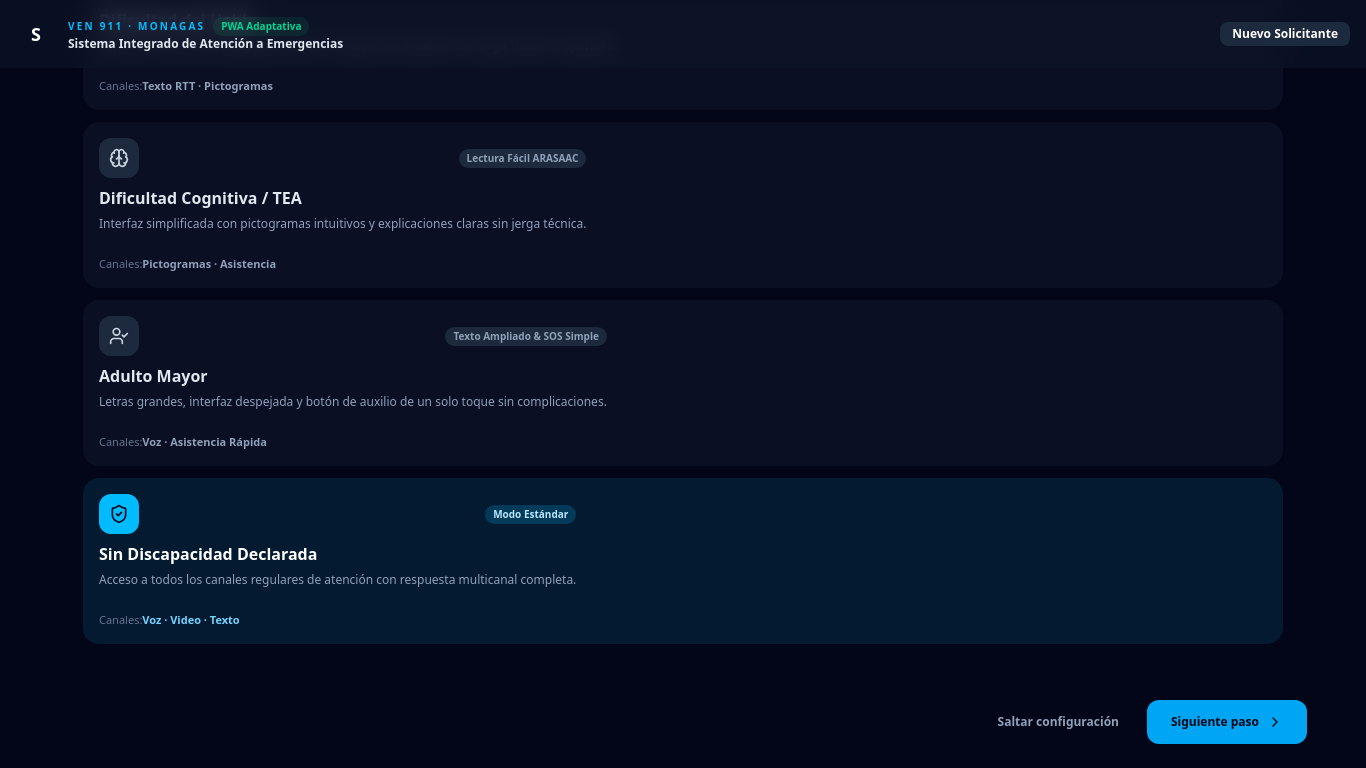
Test: Home page › shows the three onboarding screens on first launch
(page scrolled)
What coordinates should you click on to do the following:
click the button "Siguiente paso"
I would click on:
 (1227, 722)
Its box is 1147,700 -> 1307,744.
(page scrolled)
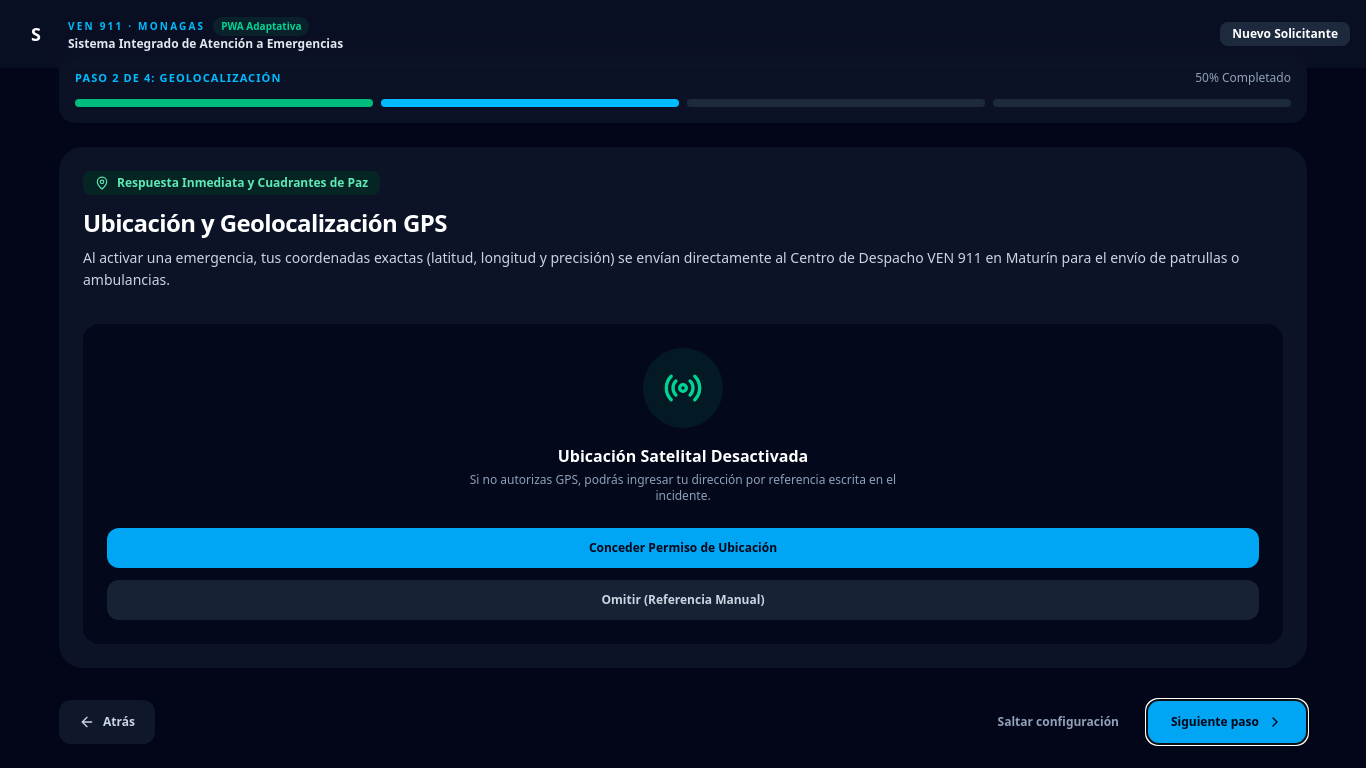
Now the heading "Ubicación y Geolocalización GPS" is shown, box 83,206 -> 447,238
What coordinates should you click on to do the following:
click the button "Siguiente paso"
I would click on:
 (1227, 722)
Its box is 1147,700 -> 1307,744.
(page scrolled)
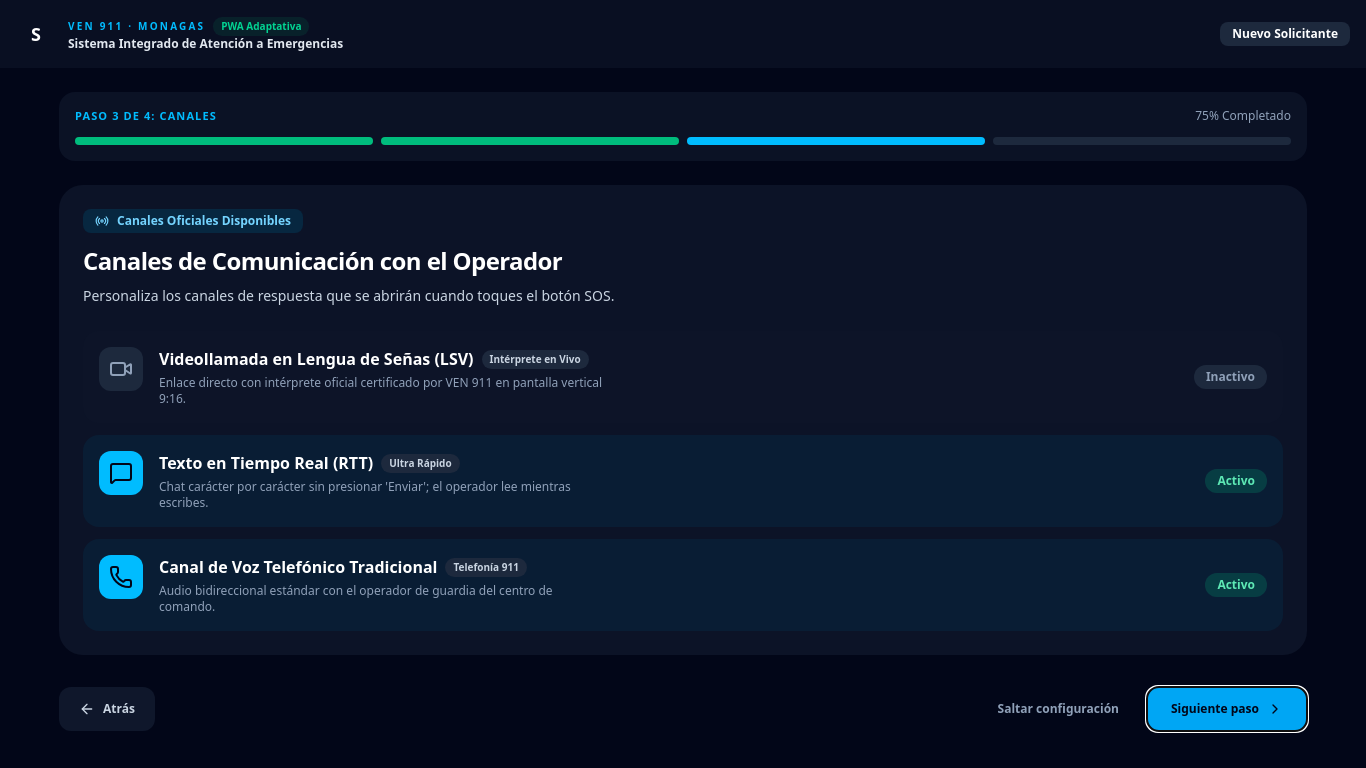
Now the heading "Canales de Comunicación con el Operador" is shown, box 83,244 -> 562,276
